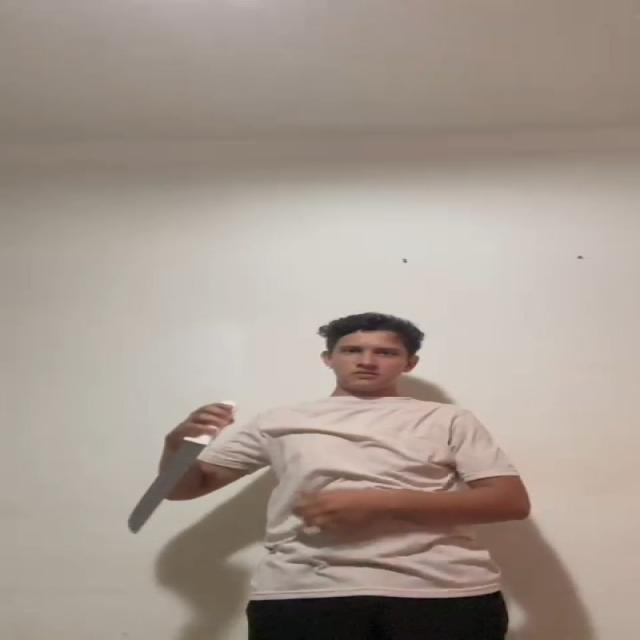knife: (126, 442, 206, 528)
